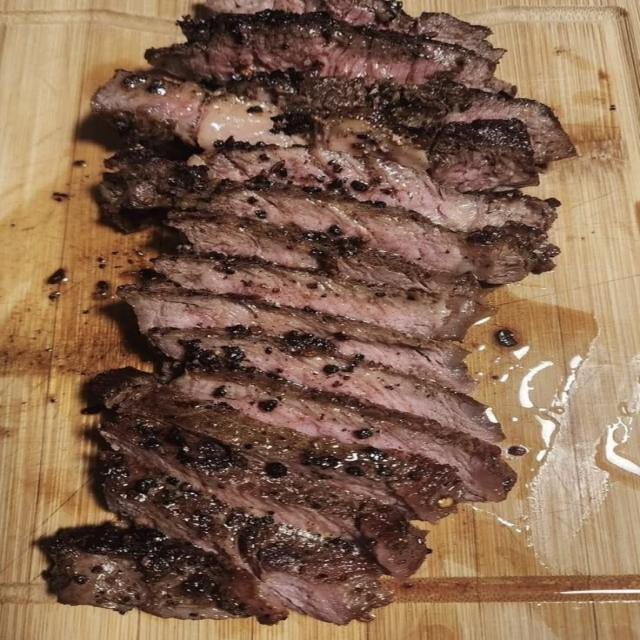beef steak: (94, 367, 423, 576), (102, 105, 550, 243), (94, 69, 573, 192), (93, 369, 462, 523), (103, 445, 390, 623), (167, 369, 515, 501), (117, 281, 474, 392), (150, 329, 485, 431), (227, 187, 552, 284), (191, 145, 556, 231), (145, 10, 501, 90), (157, 256, 483, 339), (169, 215, 462, 304), (43, 525, 248, 619), (207, 0, 503, 62), (97, 150, 212, 232), (430, 310, 461, 338)
